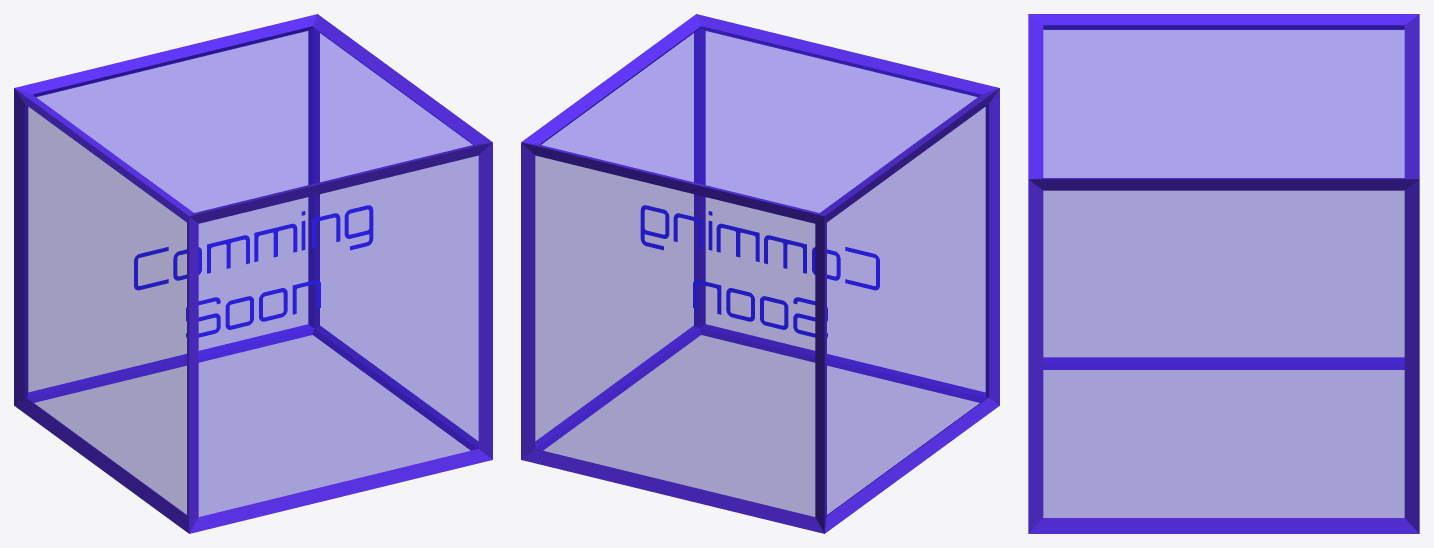
The model's file is comming_soon.glb.
The picture shows the model from 3 angles, left to right: view 1: azimuth 30°, elevation 25°; view 2: azimuth 150°, elevation 25°; view 3: azimuth 270°, elevation 25°; orthographic projection. The views are drawn at different scales.
Visible parts, largest first — view 1: Cube.001, Cube, Comming Soon; view 2: Cube.001, Cube, Comming Soon; view 3: Cube.001, Cube.
Boxes of the visible parts, bbox=[...] form: Cube.001: bbox=[25, 26, 478, 516]; Cube: bbox=[14, 14, 492, 533]; Comming Soon: bbox=[134, 205, 373, 337]; Cube.001: bbox=[535, 26, 988, 516]; Cube: bbox=[521, 14, 999, 533]; Comming Soon: bbox=[640, 205, 879, 337]; Cube.001: bbox=[1043, 25, 1404, 517]; Cube: bbox=[1028, 14, 1419, 533].
Bounding box in the file's own units: 2.06 × 2.06 × 2.06.
